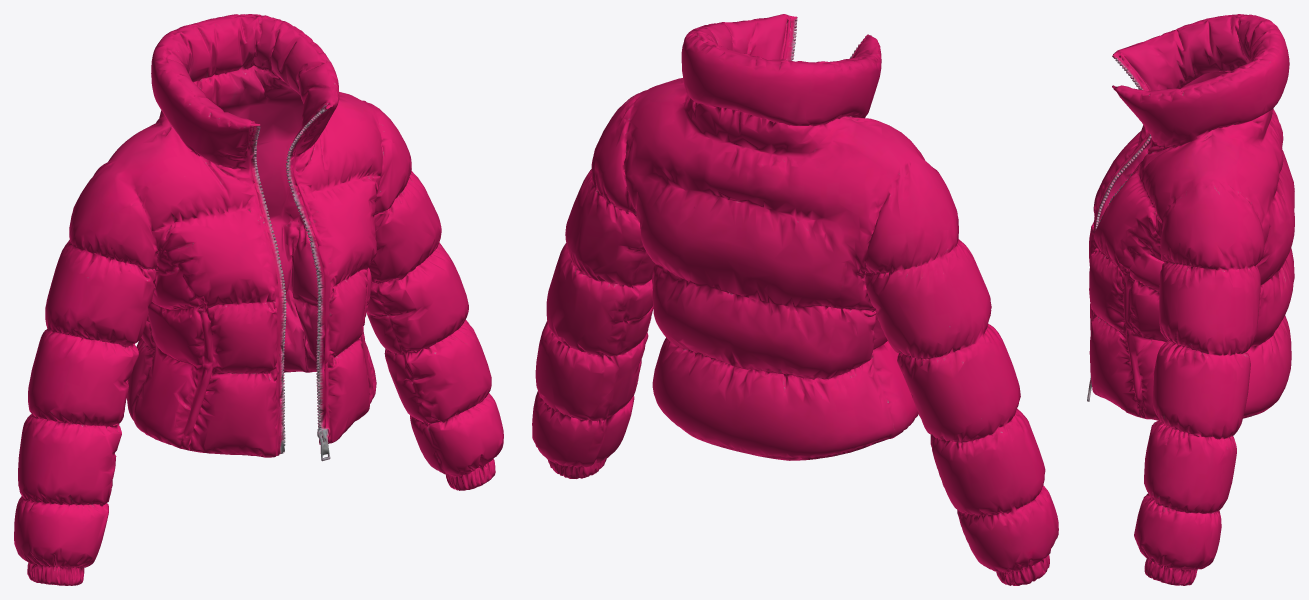
The model's file is pink.glb.
3 views of the same model, side by side, from view 1: azimuth 30°, elevation 25°; view 2: azimuth 150°, elevation 25°; view 3: azimuth 270°, elevation 25° (orthographic). The views are drawn at different scales.
Parts seen in each view (by area): view 1: mesh_node; view 2: mesh_node; view 3: mesh_node.
Boxes of the visible parts, <box> form: mesh_node: <box>14,14,503,585</box>; mesh_node: <box>532,14,1058,585</box>; mesh_node: <box>1087,14,1294,585</box>.
Bounding box in the file's own units: 1.9 × 1.82 × 0.7611.
1 material, 1 textured.
